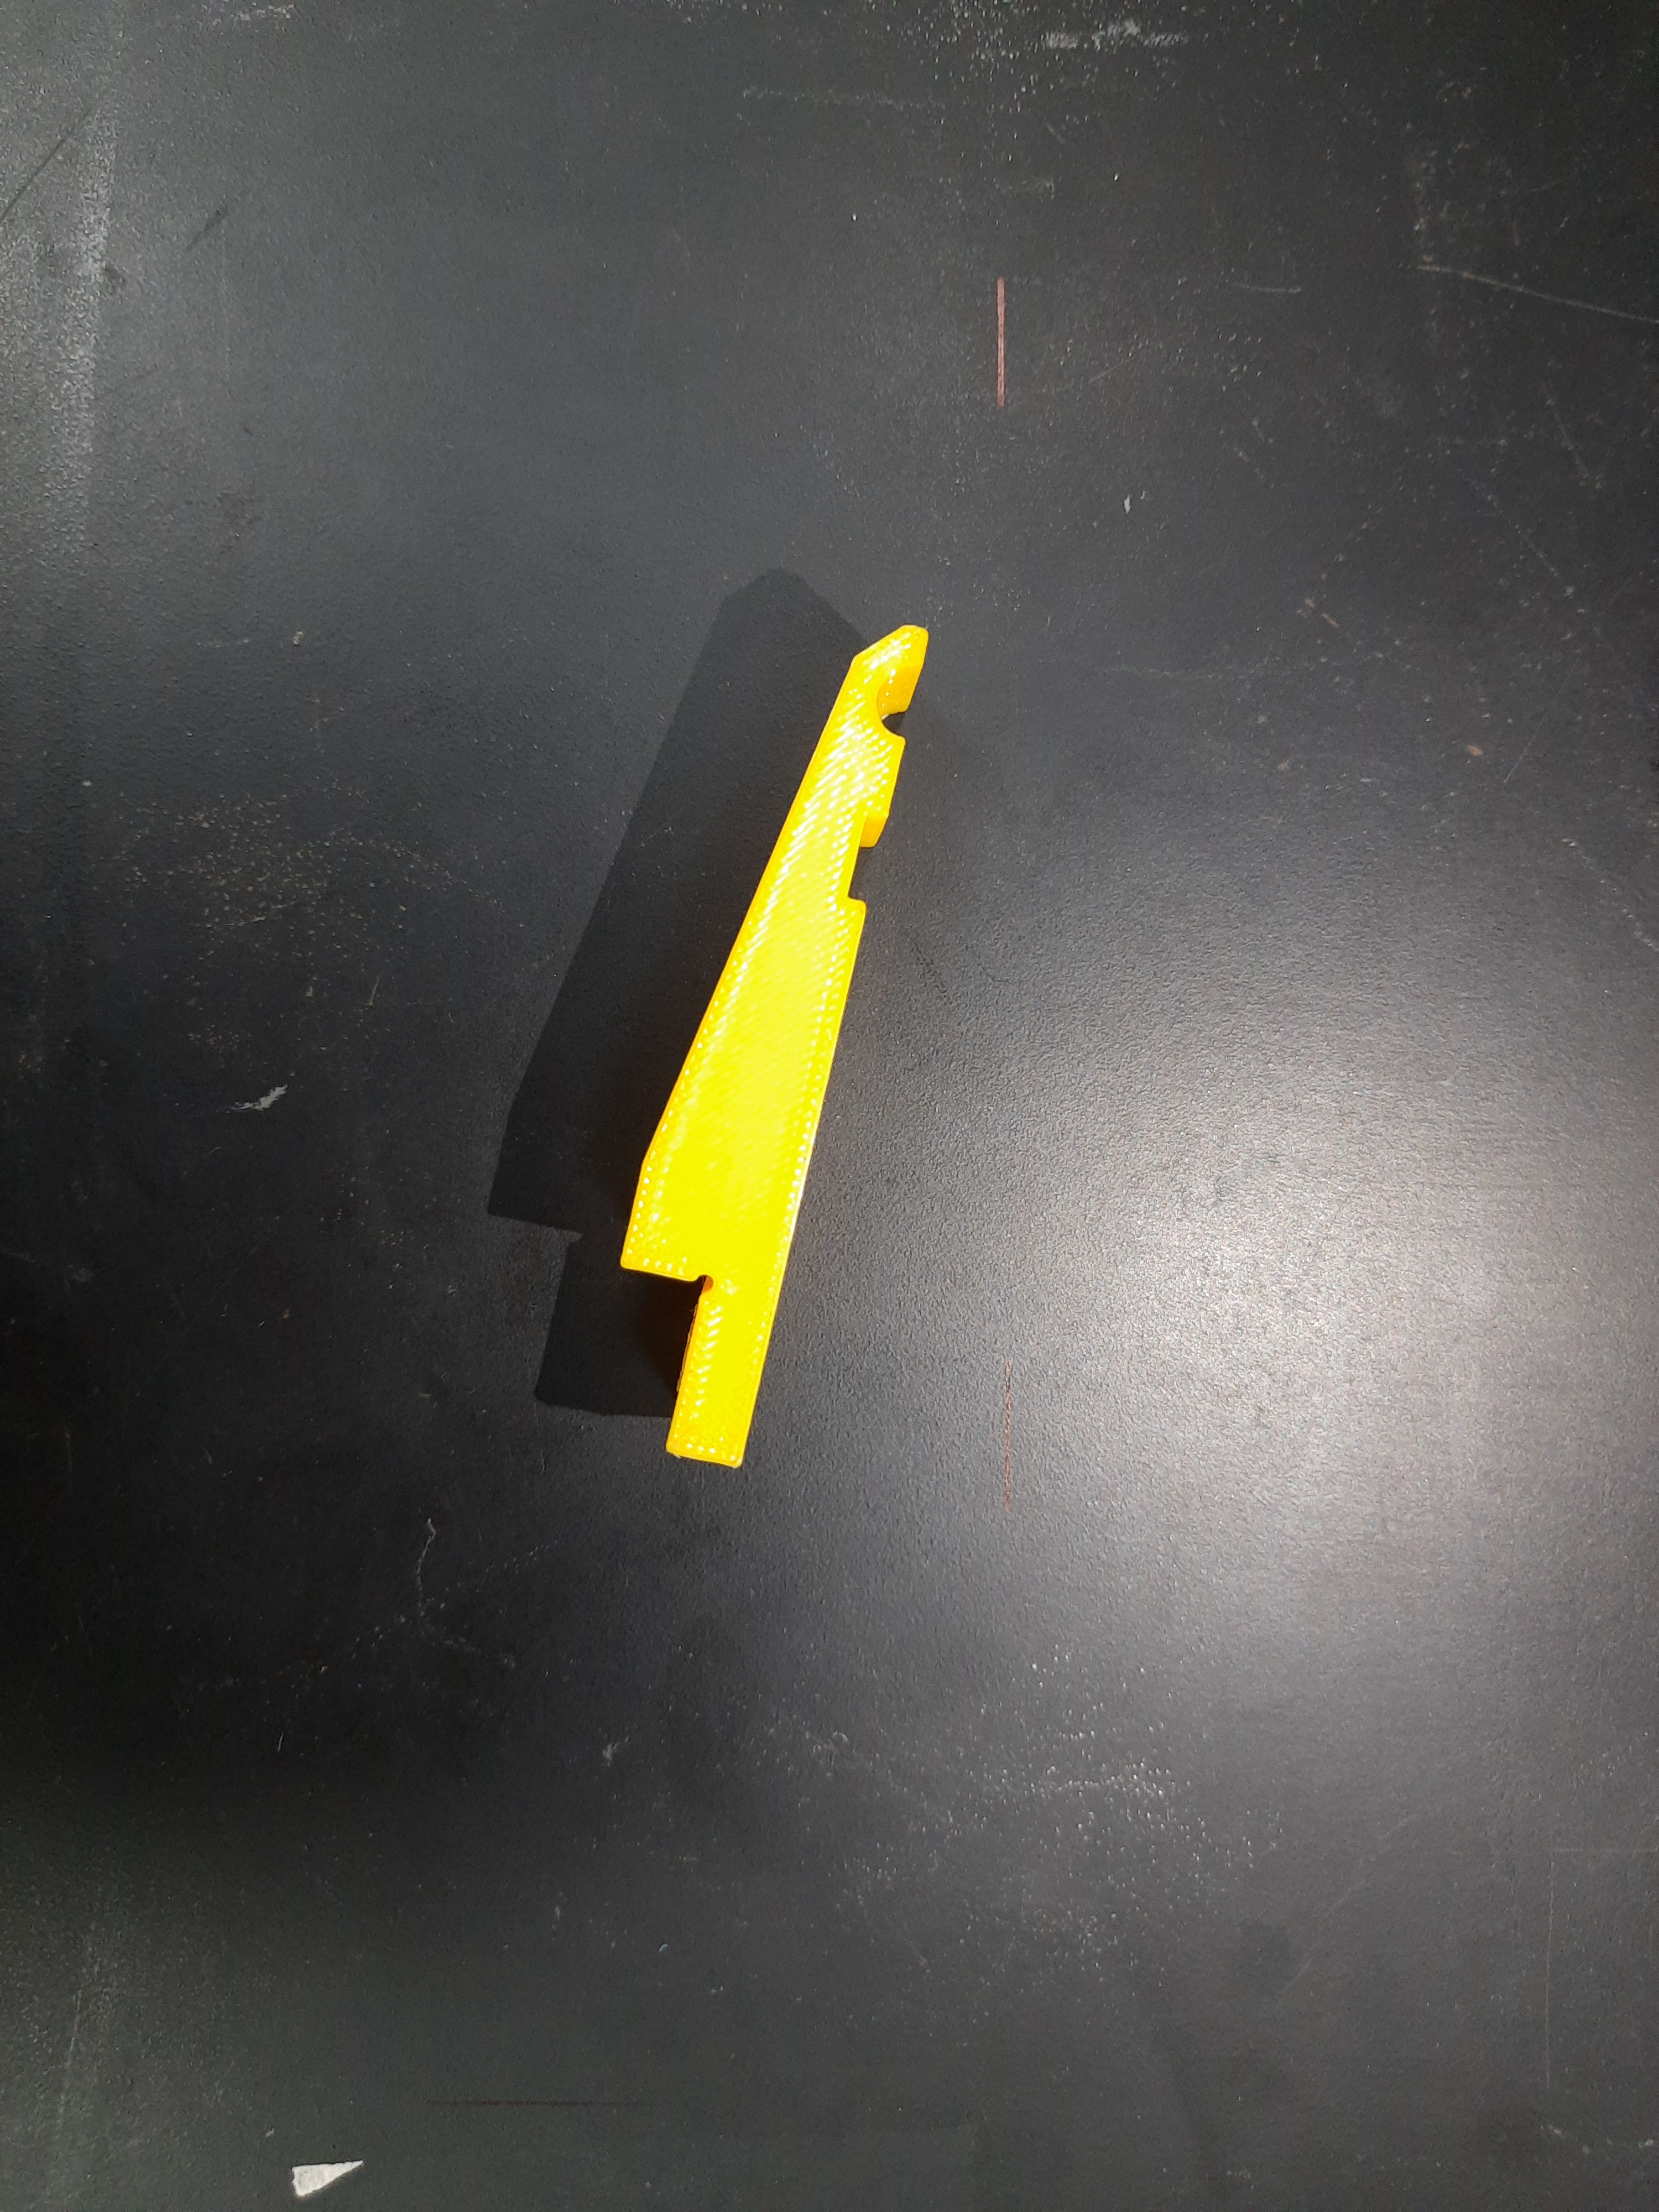YELLOW: (572, 583, 931, 1468)
